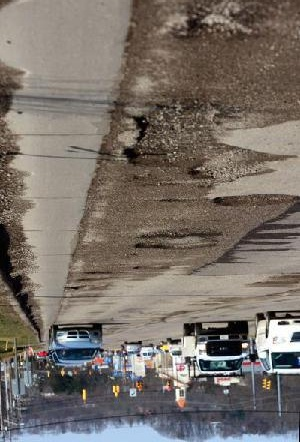pothole: (119, 94, 218, 169), (176, 7, 259, 43), (188, 146, 262, 181), (134, 221, 223, 240), (208, 192, 300, 210), (132, 244, 215, 252), (130, 262, 172, 272)
